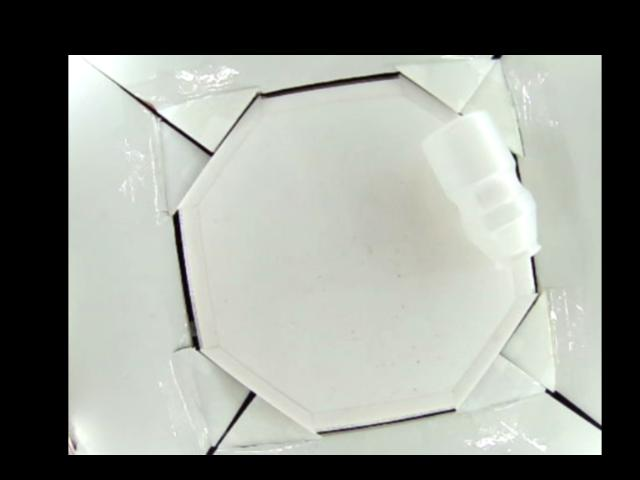Bottle: (414, 111, 544, 269)
